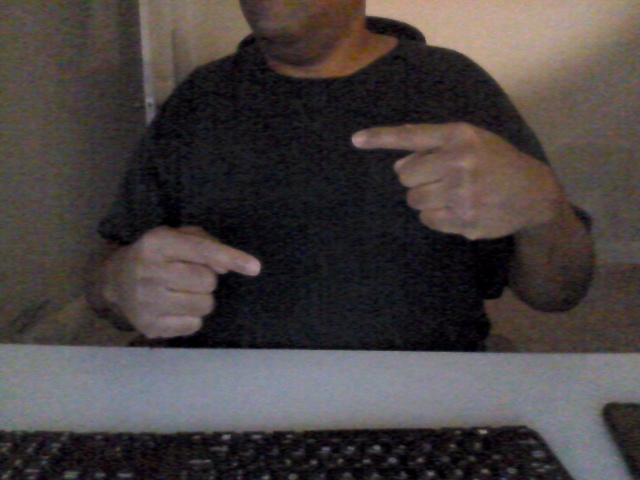go: (114, 108, 546, 343)
